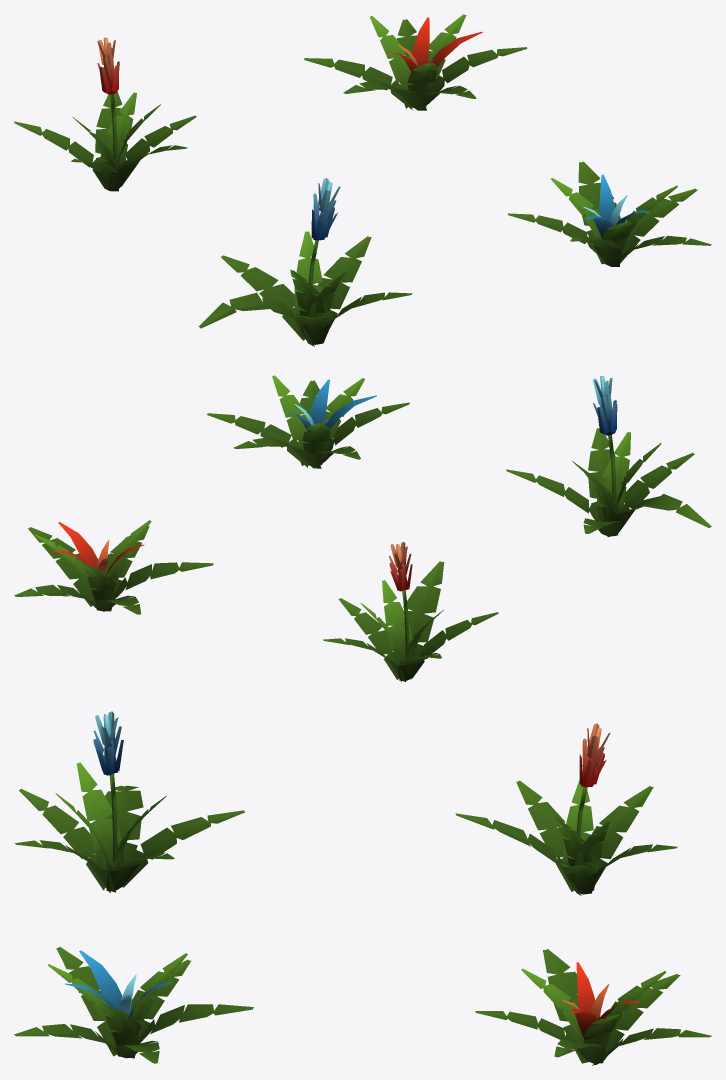
The model's file is flowers.fbx.
The picture shows the model from 3 angles, top to bottom: view 1: azimuth 30°, elevation 25°; view 2: azimuth 150°, elevation 25°; view 3: azimuth 270°, elevation 25°; orthographic projection. The views are drawn at different scales.
Visible parts, largest first — view 1: Clump7, Clump6, Clump5, Clump8; view 2: Clump7, Clump8, Clump5, Clump6; view 3: Clump7, Clump8, Clump5, Clump6.
Part boxes in pixels (x1,y1,x2,y2): Clump7: [198, 178, 412, 346]; Clump6: [304, 14, 527, 110]; Clump5: [508, 161, 711, 266]; Clump8: [14, 37, 196, 191]; Clump7: [506, 376, 711, 536]; Clump8: [323, 542, 498, 681]; Clump5: [207, 375, 409, 468]; Clump6: [14, 520, 213, 614]; Clump7: [15, 711, 245, 892]; Clump8: [455, 723, 677, 895]; Clump5: [14, 947, 253, 1063]; Clump6: [475, 949, 711, 1065].
Size of the model in its own units: 530 by 156 by 545.
